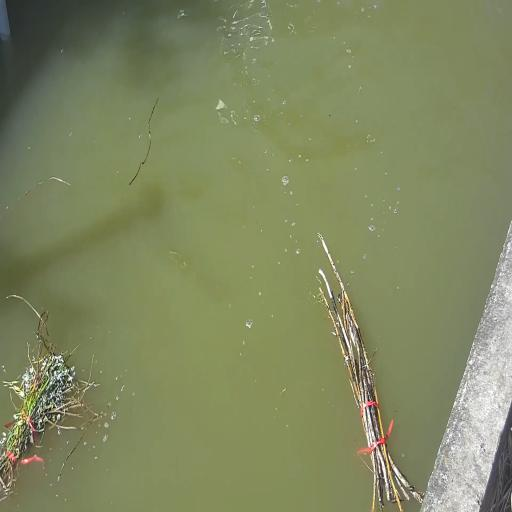twig: (312, 225, 408, 512), (0, 283, 95, 512)
